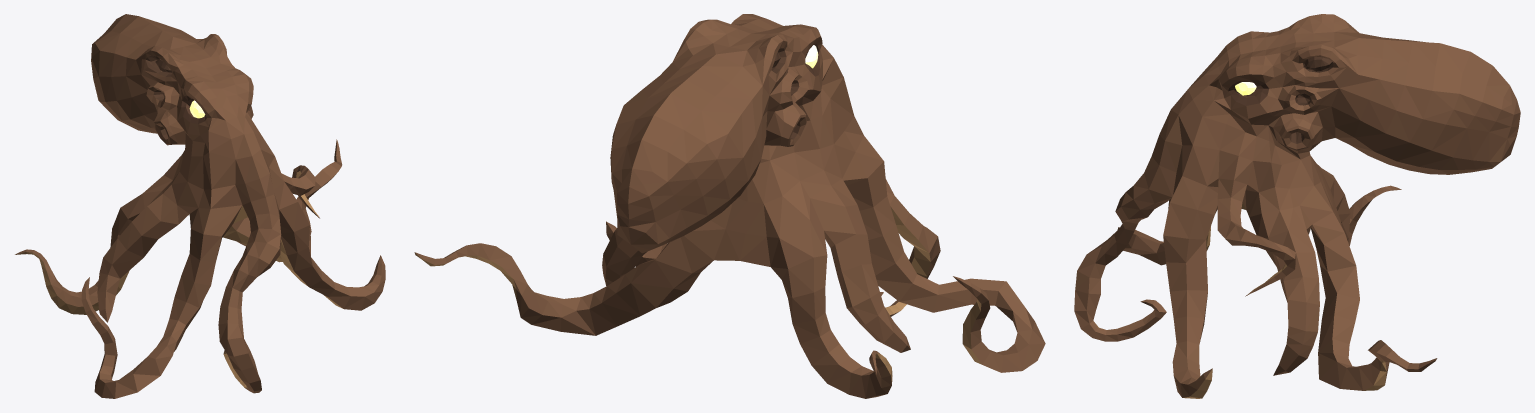
File: Kraken_003.fbx
3 renders of one model, left to right at view 1: azimuth 30°, elevation 25°; view 2: azimuth 150°, elevation 25°; view 3: azimuth 270°, elevation 25°, orthographic. The views are drawn at different scales.
Visible parts, largest first — view 1: Kraken_003; view 2: Kraken_003; view 3: Kraken_003.
Boxes of the visible parts, box(x1,y1,x2,y2) form: Kraken_003: box(15, 14, 385, 398); Kraken_003: box(414, 14, 1045, 398); Kraken_003: box(1074, 14, 1520, 398).
Bounding box in the file's own units: 2.09 × 1.56 × 1.93.
